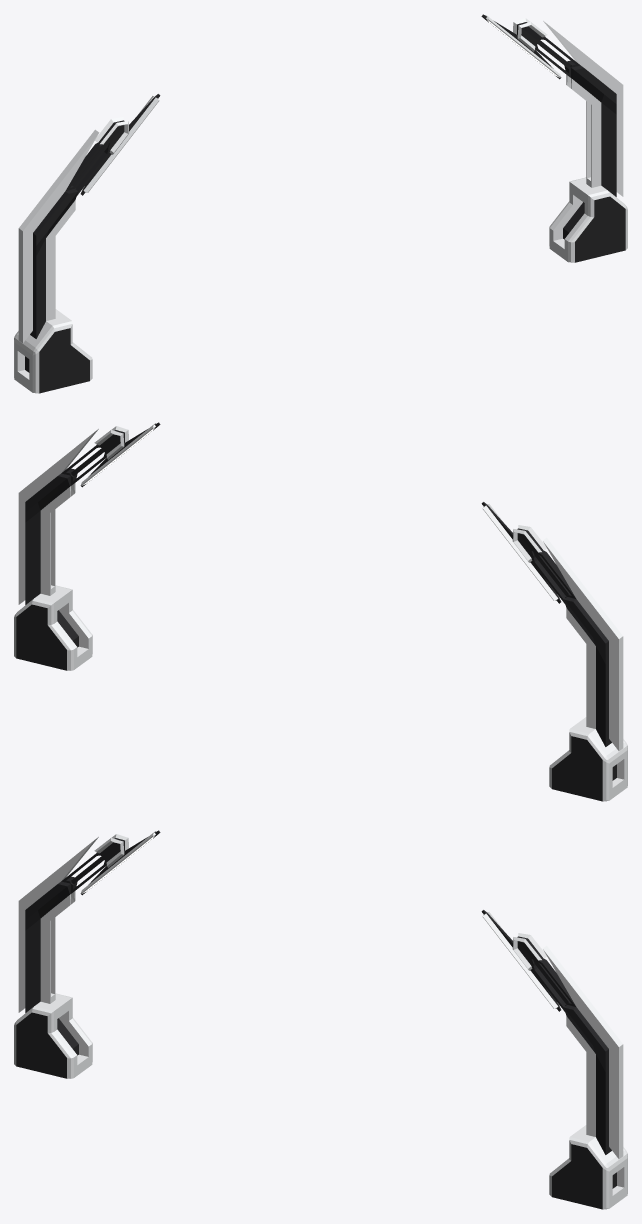
Rendered from lamp.glb.
The picture shows the model from 3 angles, top to bottom: view 1: azimuth 30°, elevation 25°; view 2: azimuth 150°, elevation 25°; view 3: azimuth 330°, elevation 25°; orthographic projection.
Visible parts, largest first — view 1: RoadLamp; view 2: RoadLamp; view 3: RoadLamp.
Boxes of the visible parts, box(x1,y1,x2,y2) form: RoadLamp: box(14, 14, 627, 393); RoadLamp: box(14, 422, 627, 801); RoadLamp: box(14, 830, 627, 1209).
Size of the model in its own units: 15.14 by 6.25 by 1.
Materials: 1 (1 with a texture image).
